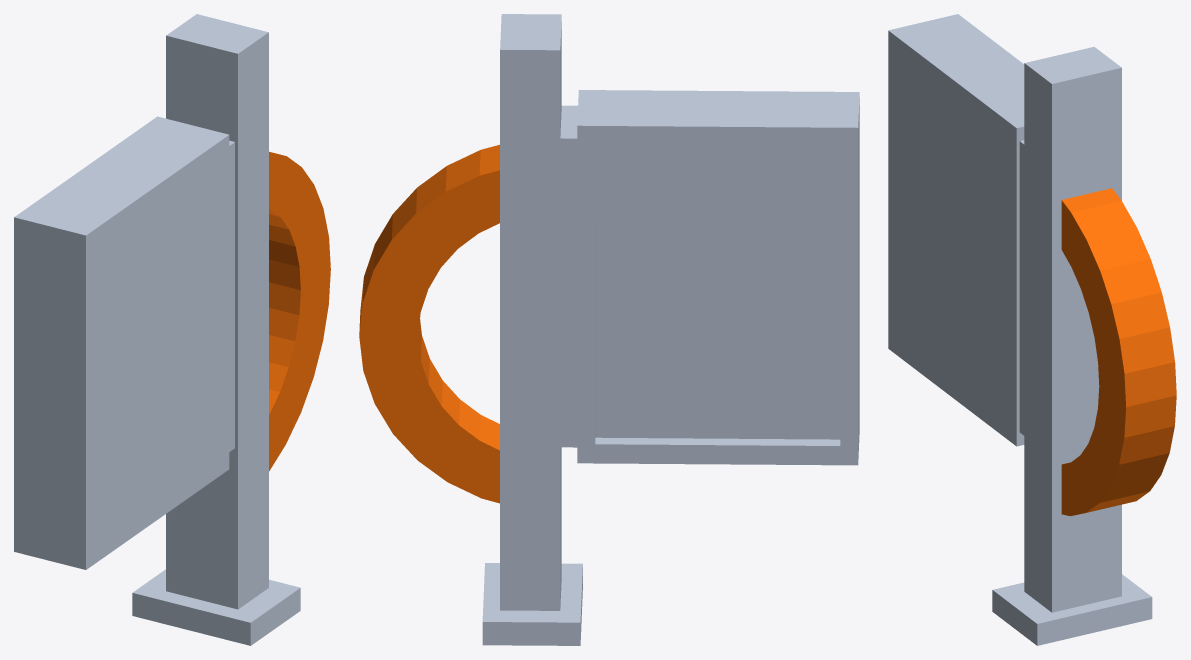
Rendered from directory.fbx.
The picture shows the model from 3 angles, left to right: view 1: azimuth 30°, elevation 25°; view 2: azimuth 150°, elevation 25°; view 3: azimuth 270°, elevation 25°; orthographic projection. The views are drawn at different scales.
Parts seen in each view (by area): view 1: Cube, Cube.002, Cylinder, Cube.003, Cube.001; view 2: Cube, Cube.002, Cylinder, Cube.001, Cube.003; view 3: Cube, Cube.002, Cylinder, Cube.003, Cube.001.
Boxes of the visible parts, x1,y1,x2,y2 form: Cube: [14, 116, 229, 569]; Cube.002: [166, 14, 268, 609]; Cylinder: [269, 151, 330, 471]; Cube.003: [132, 569, 300, 645]; Cube.001: [229, 140, 234, 451]; Cube: [577, 90, 859, 465]; Cube.002: [500, 14, 561, 610]; Cylinder: [359, 144, 499, 503]; Cube.001: [560, 105, 577, 447]; Cube.003: [482, 563, 582, 645]; Cube: [888, 14, 1024, 446]; Cube.002: [1024, 46, 1121, 612]; Cylinder: [1061, 188, 1176, 516]; Cube.003: [992, 574, 1152, 645]; Cube.001: [1019, 140, 1024, 435].
Size of the model in its own units: 889 by 1213 by 576.
